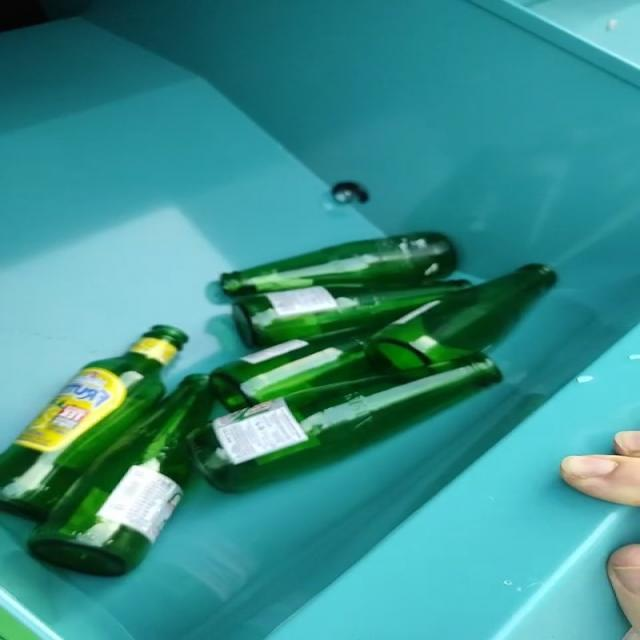Glass: (0, 233, 556, 576)
